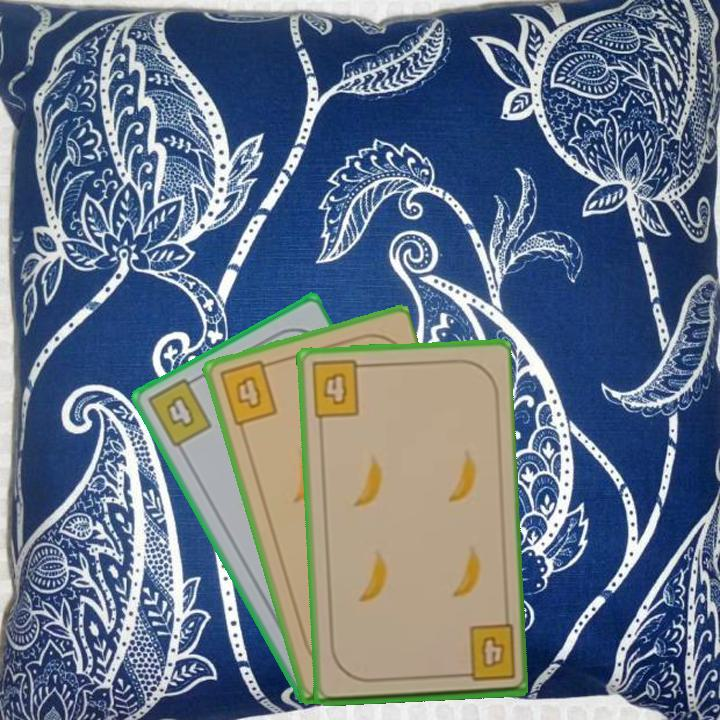4b: (143, 372, 215, 450), (215, 357, 280, 429), (452, 622, 518, 685), (308, 357, 370, 420)
